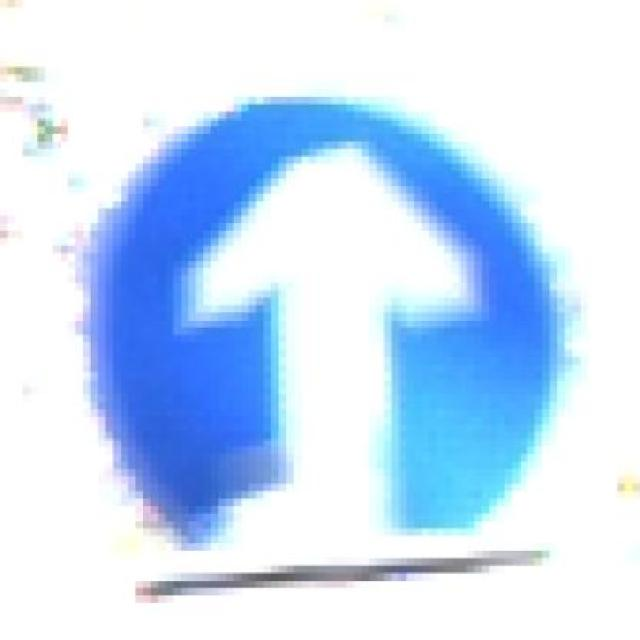Straight Ahead Only: (52, 82, 588, 588)
